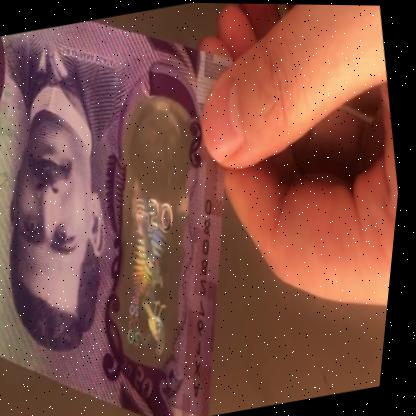50F: (89, 106, 222, 365)
